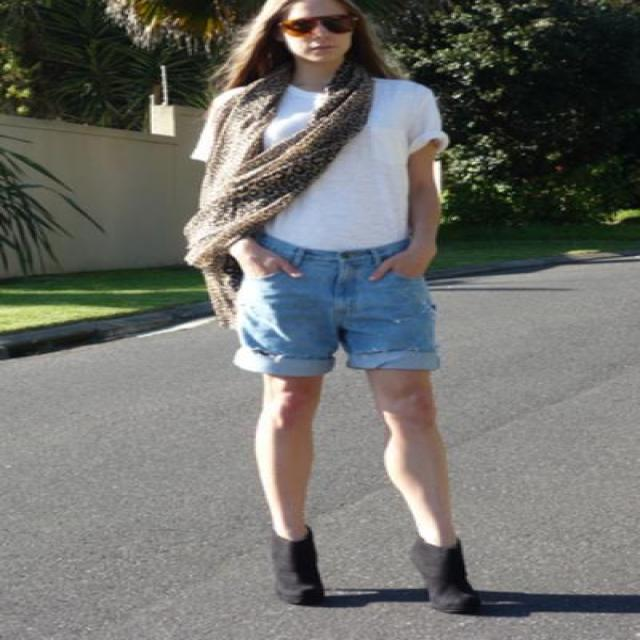shirt: (192, 79, 446, 251)
shoe: (286, 527, 493, 615)
shorts: (230, 235, 466, 408)
